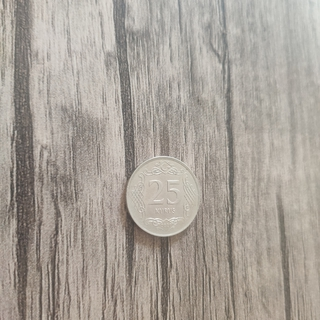25KURUS: (124, 154, 202, 238)
